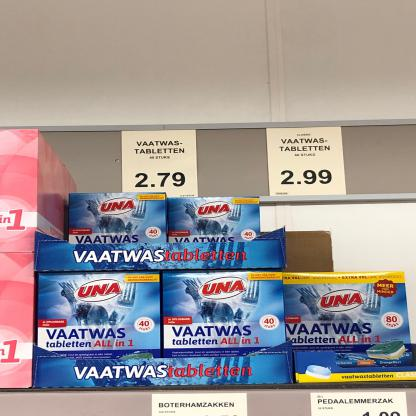prtg: (267, 127, 347, 197), (122, 131, 199, 198), (310, 393, 410, 415), (152, 394, 249, 415)
